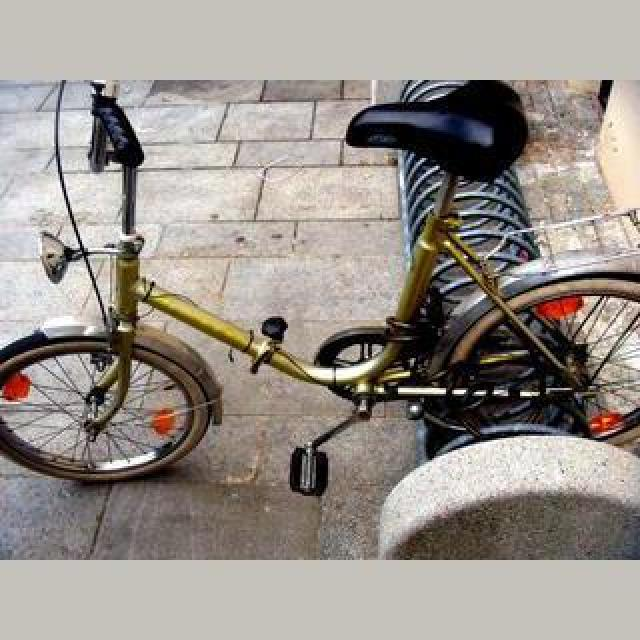Person: (0, 80, 638, 552)
